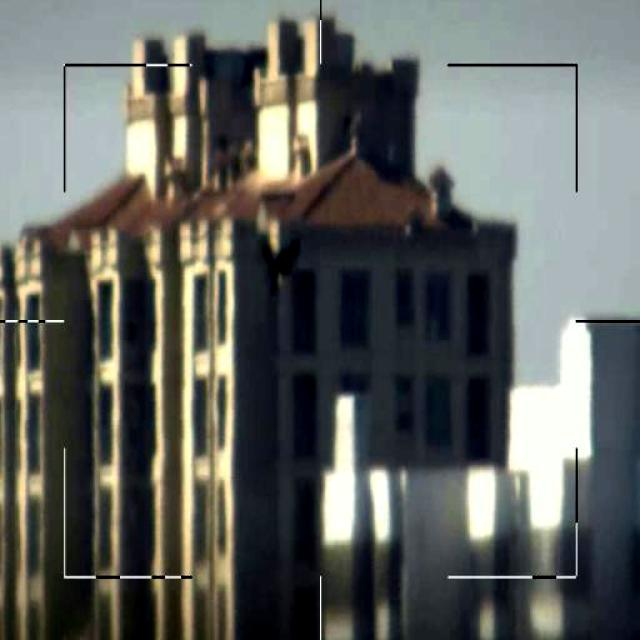bird: (260, 234, 304, 300)
